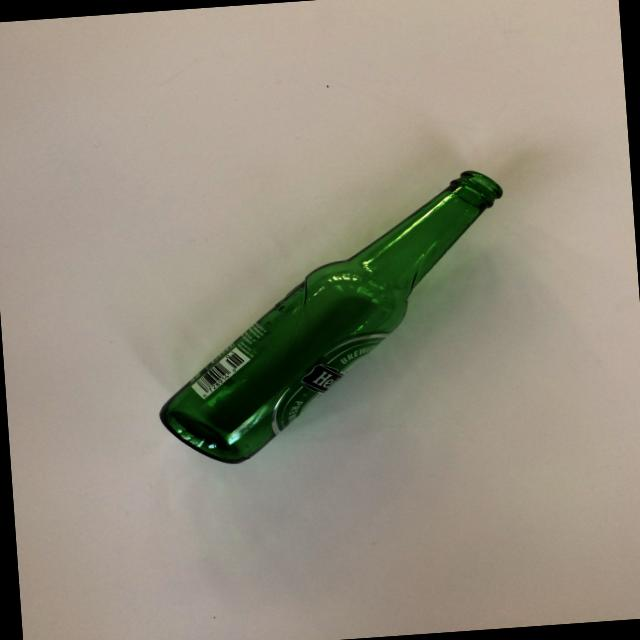Glass: (137, 162, 530, 474)
